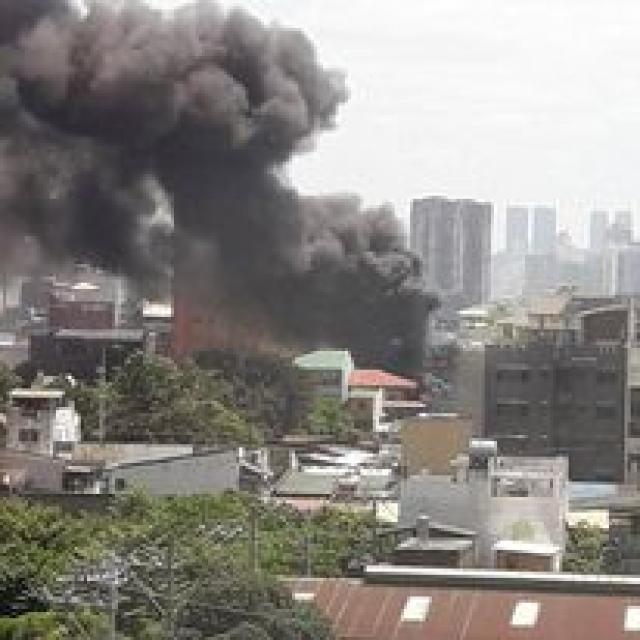Smoke: (0, 0, 444, 383)
